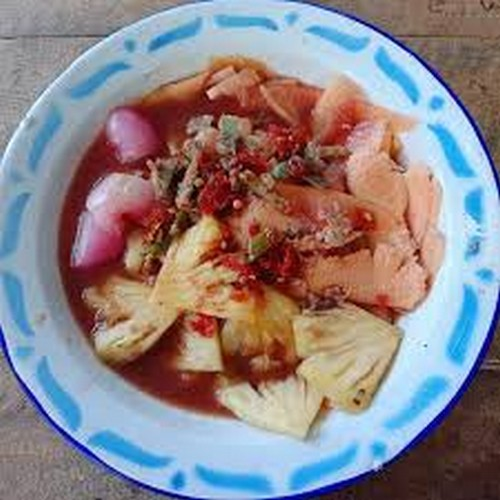rujak buleleng: (89, 106, 378, 391)
